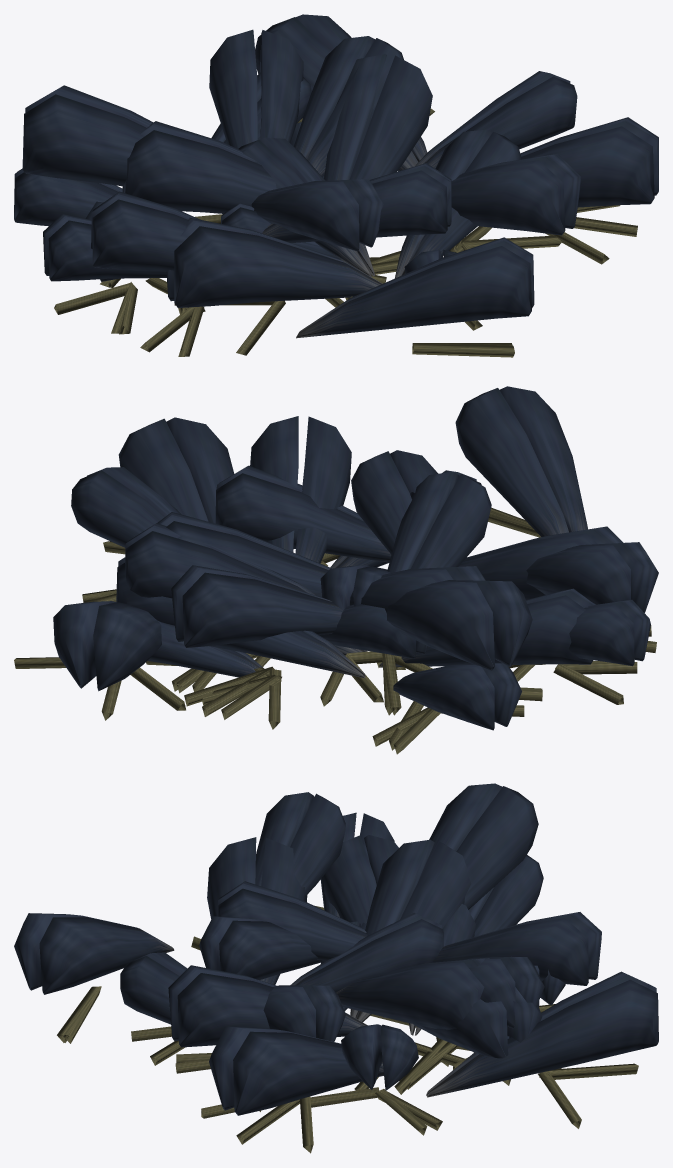
Rendered from mussels-30.glb.
3 views of the same model, one above another, from view 1: azimuth 30°, elevation 25°; view 2: azimuth 150°, elevation 25°; view 3: azimuth 270°, elevation 25° (orthographic). The views are drawn at different scales.
Visible parts, largest first — view 1: LOD0; view 2: LOD0; view 3: LOD0.
Boxes of the visible parts, bbox=[...] form: LOD0: bbox=[14, 14, 658, 357]; LOD0: bbox=[14, 386, 658, 754]; LOD0: bbox=[14, 783, 658, 1153].
Size of what is drawn, in the model's own units: 0.1757 by 0.0476 by 0.1825.
1 material, 1 textured.
